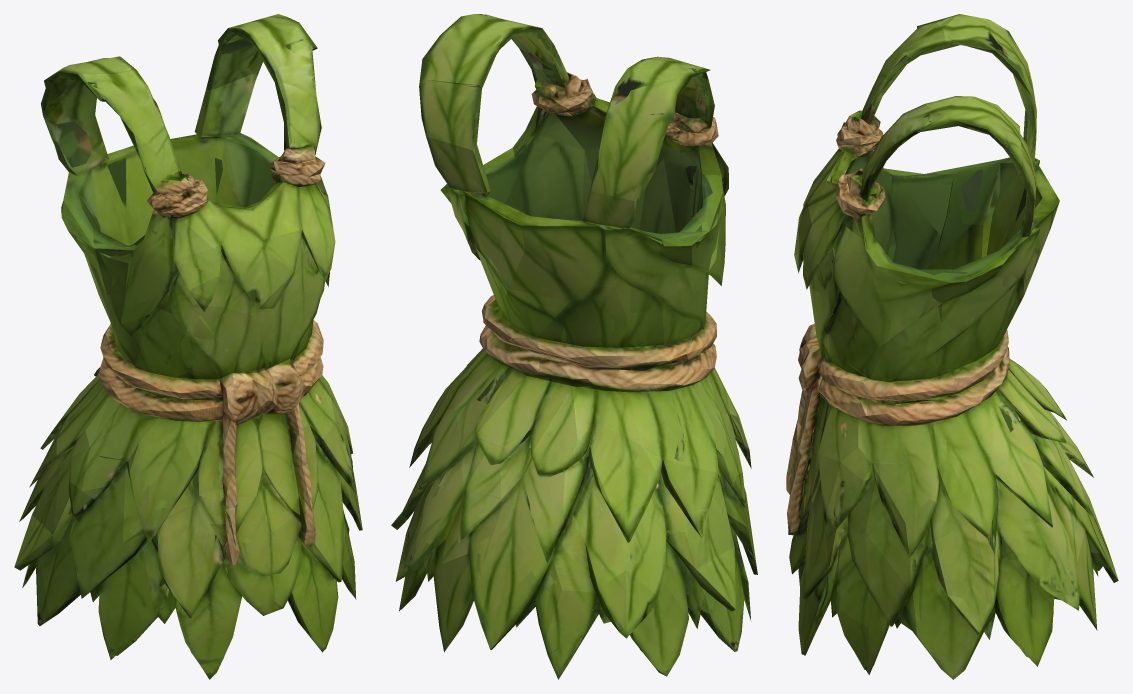
File: hero-tenue1.glb
3 renders of one model, left to right at view 1: azimuth 30°, elevation 25°; view 2: azimuth 150°, elevation 25°; view 3: azimuth 270°, elevation 25°, orthographic. The views are drawn at different scales.
Parts seen in each view (by area): view 1: output_unwrapped; view 2: output_unwrapped; view 3: output_unwrapped.
Boxes of the visible parts, left/top/right/bottom form: output_unwrapped: left=14, top=14, right=362, bottom=679; output_unwrapped: left=391, top=14, right=757, bottom=679; output_unwrapped: left=786, top=14, right=1118, bottom=679.
Size of the model in its own units: 1.15 by 1.89 by 1.02.
Materials: 1 (1 with a texture image).
